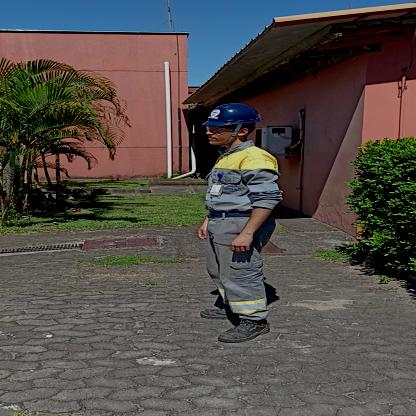Capacete: (201, 102, 262, 124)
